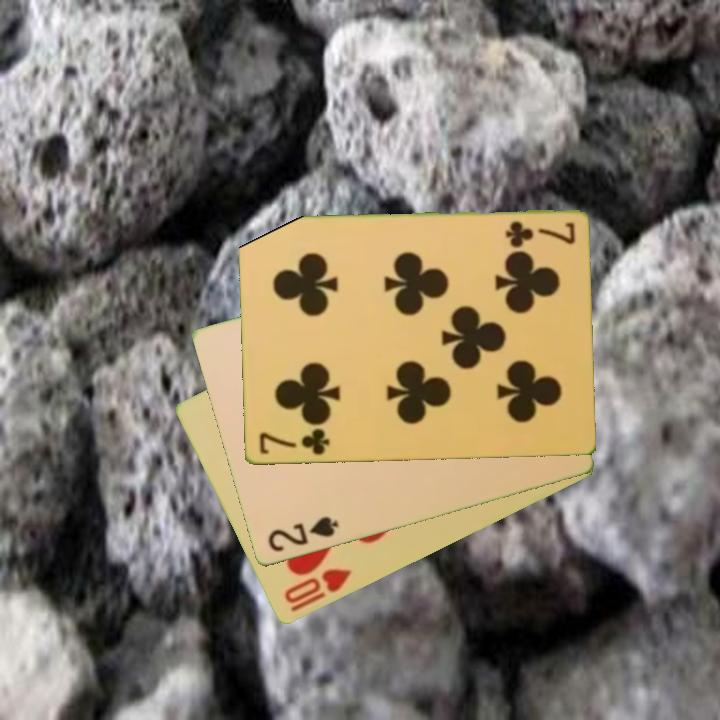10h: (280, 565, 354, 616)
2s: (264, 513, 342, 555)
7c: (255, 425, 332, 458), (502, 218, 578, 248)
